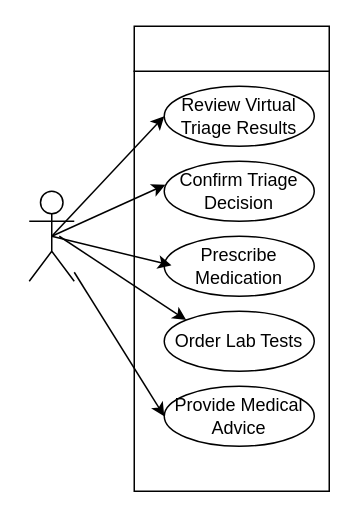
This 356x518 diagram has some shape labels left out. The shapes that lost their labels are listed below. From the top down, each one's centre as x and y in pixels, then its label:
At point 231,48: "Mister ED".
At point 51,235: "Doctor".
